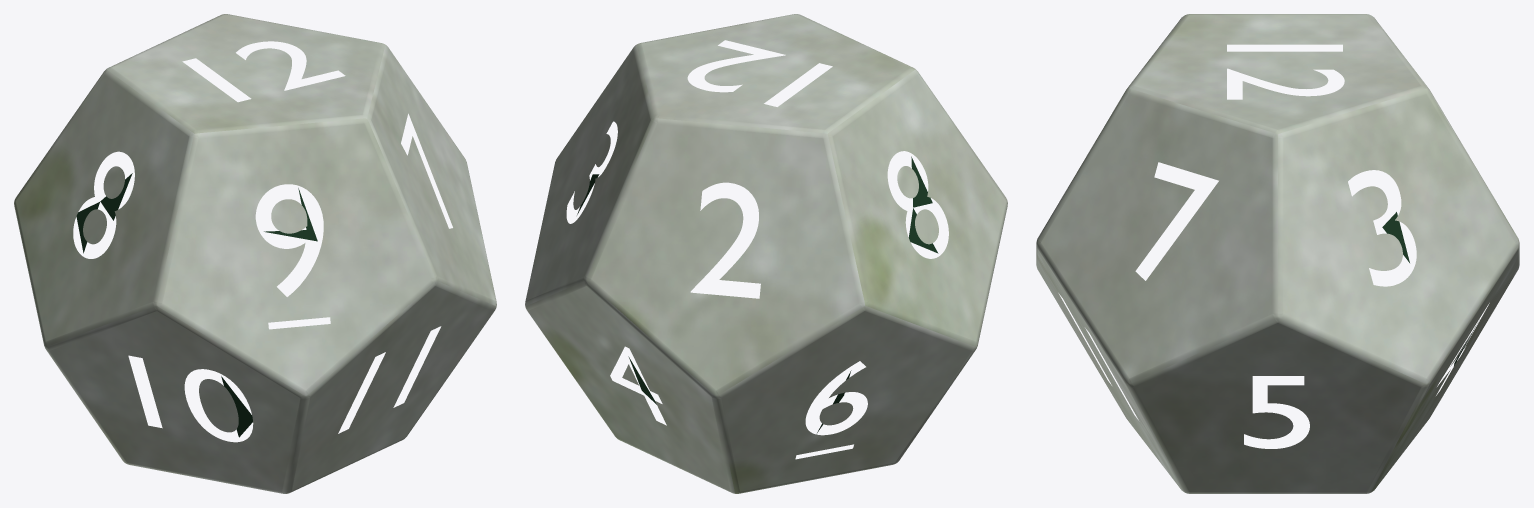
3 renders of one model, left to right at view 1: azimuth 30°, elevation 25°; view 2: azimuth 150°, elevation 25°; view 3: azimuth 270°, elevation 25°, orthographic. The views are drawn at different scales.
Visible parts, largest first — view 1: Jade D12; view 2: Jade D12; view 3: Jade D12.
Boxes of the visible parts, bbox=[...] form: Jade D12: bbox=[14, 14, 496, 493]; Jade D12: bbox=[525, 14, 1007, 493]; Jade D12: bbox=[1036, 14, 1519, 493].
Size of the model in its own units: 1.4 by 1.14 by 1.33.
Materials: 2 (1 with a texture image).
